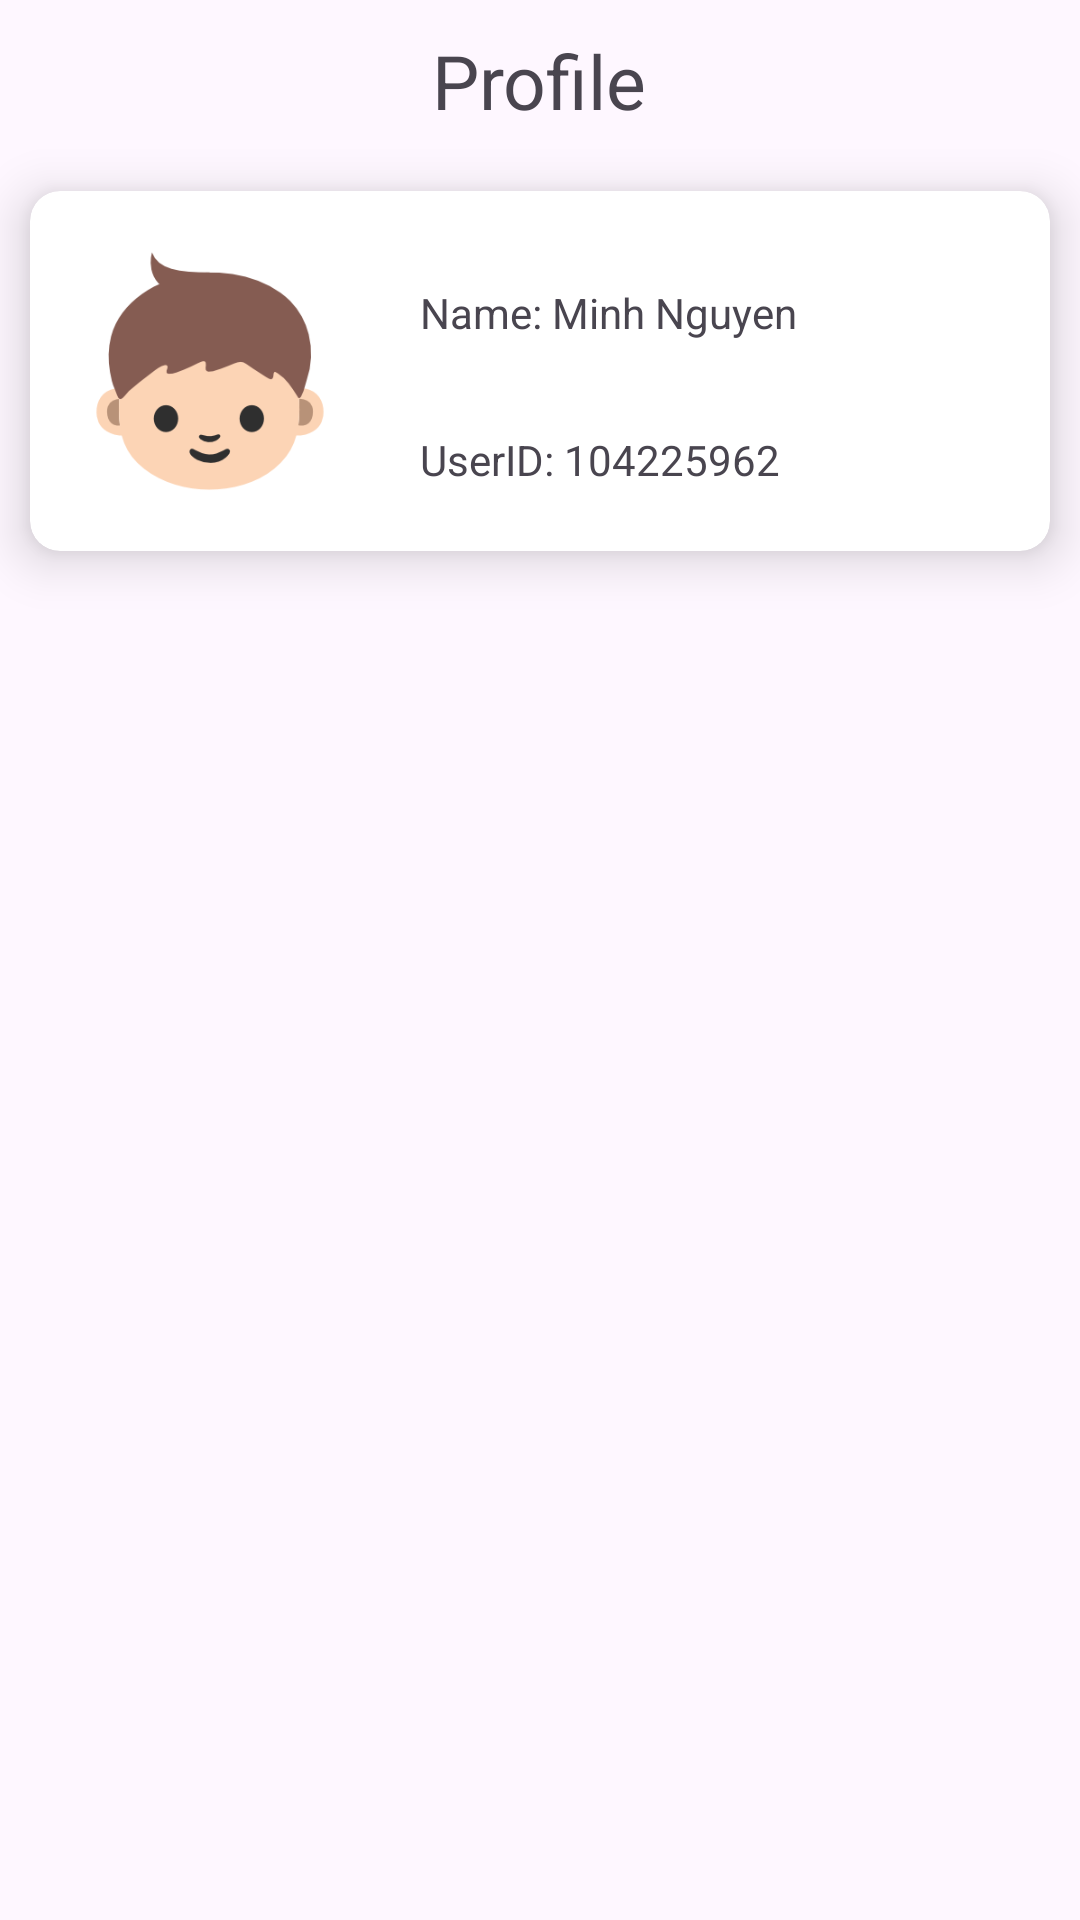

Icons on this 1080x1920 Android screen, each with its box as Rect(x1, y1, x2, y2):
496175208emoji android boy: Rect(96, 253, 324, 490)
